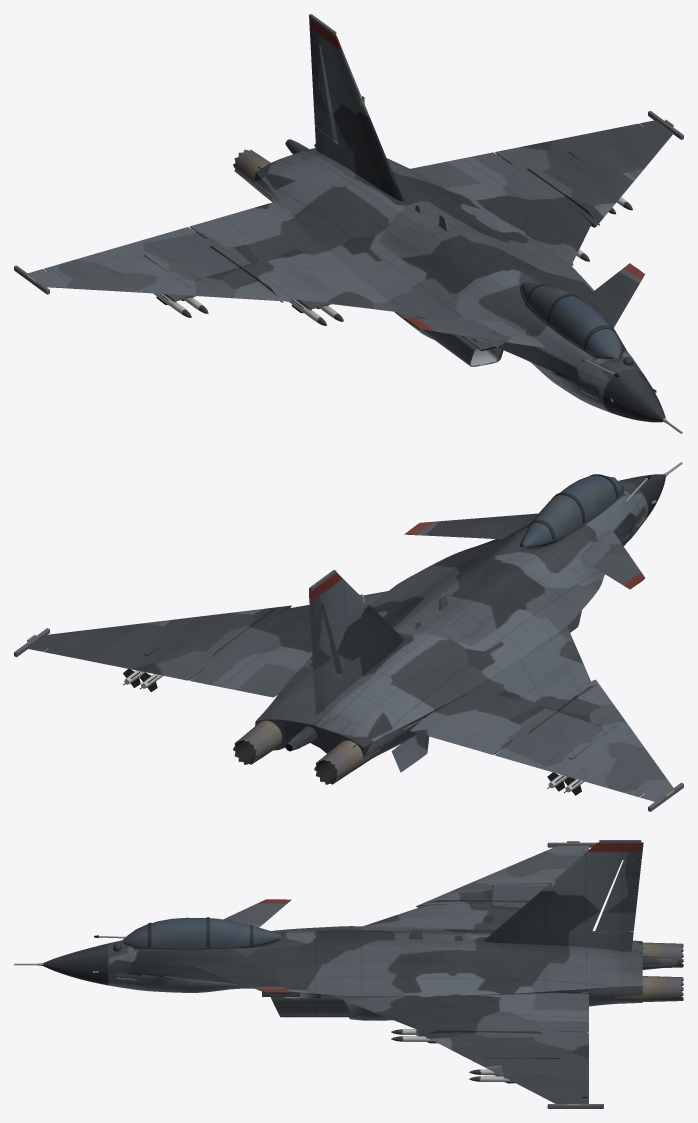
The model's file is vanta-v2.fbx.
3 renders of one model, top to bottom at view 1: azimuth 30°, elevation 25°; view 2: azimuth 150°, elevation 25°; view 3: azimuth 270°, elevation 25°, orthographic. The views are drawn at different scales.
Parts seen in each view (by area): view 1: Body, Canopy, Elevator_L, Elevator_R, Aileron_L, Aileron_R, Rudder; view 2: Body, Canopy, Elevator_R, Elevator_L, Aileron_L, Aileron_R, Rudder; view 3: Body, Canopy, Rudder, Elevator_R, Aileron_R, Elevator_L.
Boxes of the visible parts, x1=… form: Body: x1=14, y1=14, x2=683, y2=433; Canopy: x1=521, y1=282, x2=622, y2=358; Elevator_L: x1=404, y1=318, x2=545, y2=348; Elevator_R: x1=582, y1=263, x2=644, y2=328; Aileron_L: x1=44, y1=227, x2=205, y2=271; Aileron_R: x1=495, y1=123, x2=642, y2=164; Rudder: x1=310, y1=38, x2=337, y2=141; Body: x1=14, y1=462, x2=683, y2=811; Canopy: x1=521, y1=475, x2=622, y2=547; Elevator_R: x1=404, y1=513, x2=538, y2=539; Elevator_L: x1=579, y1=529, x2=644, y2=589; Aileron_L: x1=495, y1=741, x2=643, y2=797; Aileron_R: x1=44, y1=648, x2=205, y2=680; Rudder: x1=310, y1=605, x2=337, y2=691; Body: x1=14, y1=840, x2=683, y2=1108; Canopy: x1=122, y1=917, x2=280, y2=947; Rudder: x1=595, y1=860, x2=641, y2=932; Elevator_R: x1=188, y1=962, x2=291, y2=993; Aileron_R: x1=558, y1=1031, x2=588, y2=1097; Elevator_L: x1=223, y1=899, x2=291, y2=927.
Bounding box in the file's own units: 24.58 × 7.3 × 26.4.
1 material, 1 textured.
